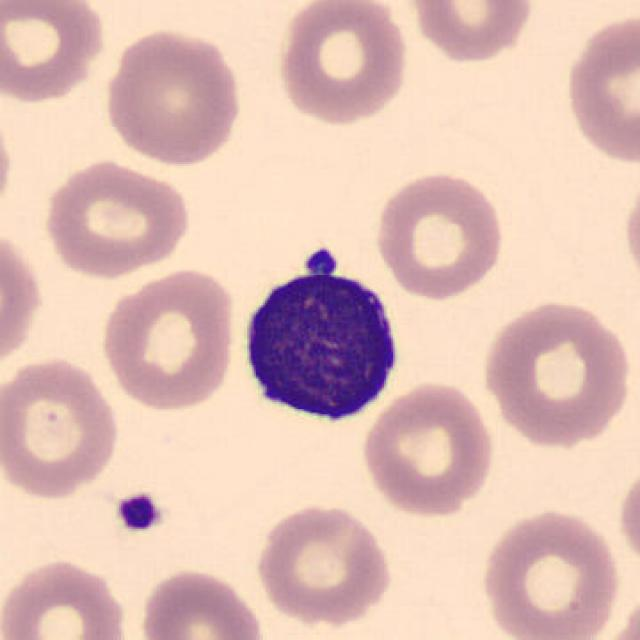Lymphocyte: (230, 238, 414, 434)
Platelets: (112, 488, 165, 536)
RBC: (476, 294, 634, 450), (96, 264, 240, 414), (100, 24, 246, 168), (357, 377, 498, 520), (476, 504, 624, 640), (39, 155, 194, 280), (250, 499, 396, 628), (370, 168, 508, 302), (0, 352, 123, 500), (274, 0, 412, 129), (560, 11, 638, 169), (0, 0, 112, 108), (0, 555, 132, 640), (135, 566, 269, 640), (403, 0, 537, 65), (0, 222, 46, 381), (615, 458, 640, 576), (620, 169, 640, 296), (592, 589, 640, 640), (0, 102, 16, 229)
